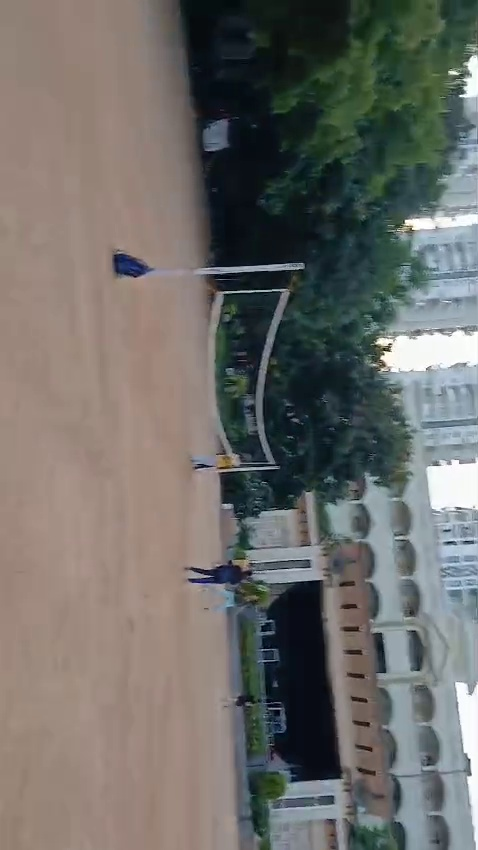bag: (104, 248, 162, 284)
